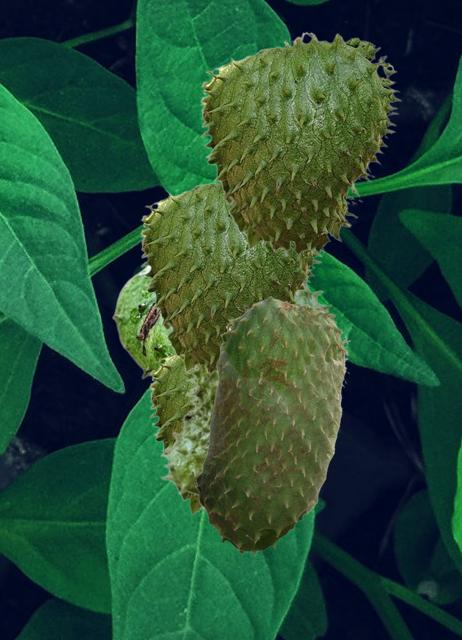guyabano: (200, 31, 401, 260), (159, 268, 332, 509), (194, 295, 349, 555), (140, 182, 325, 376), (149, 353, 204, 515), (112, 267, 173, 379)
